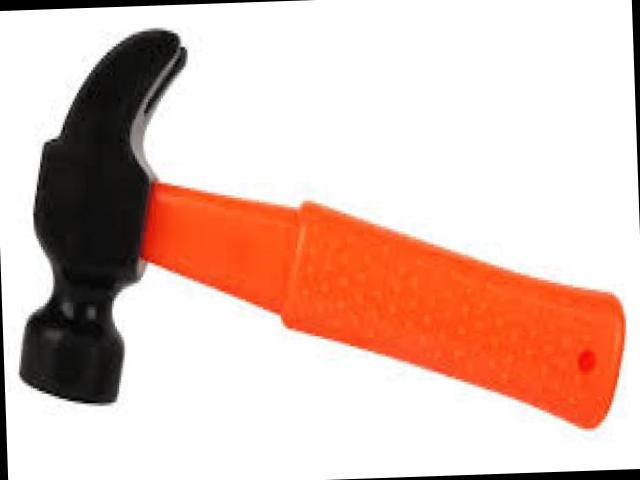hammer: (6, 13, 634, 456)
